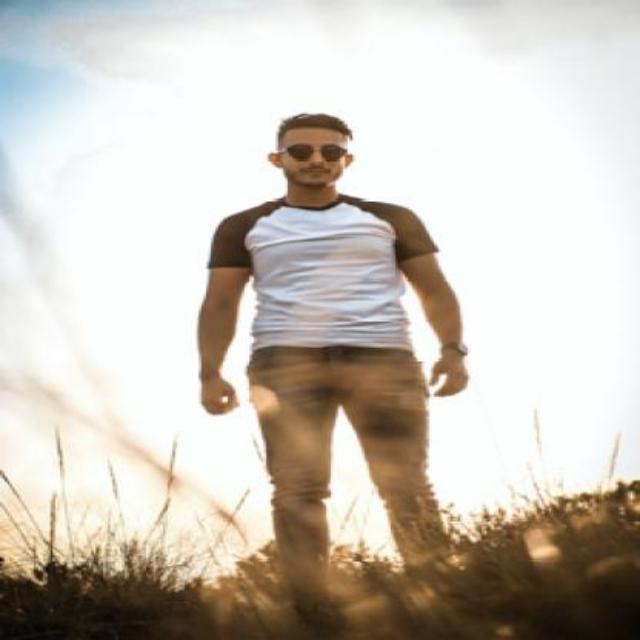glasses: (271, 144, 347, 160)
